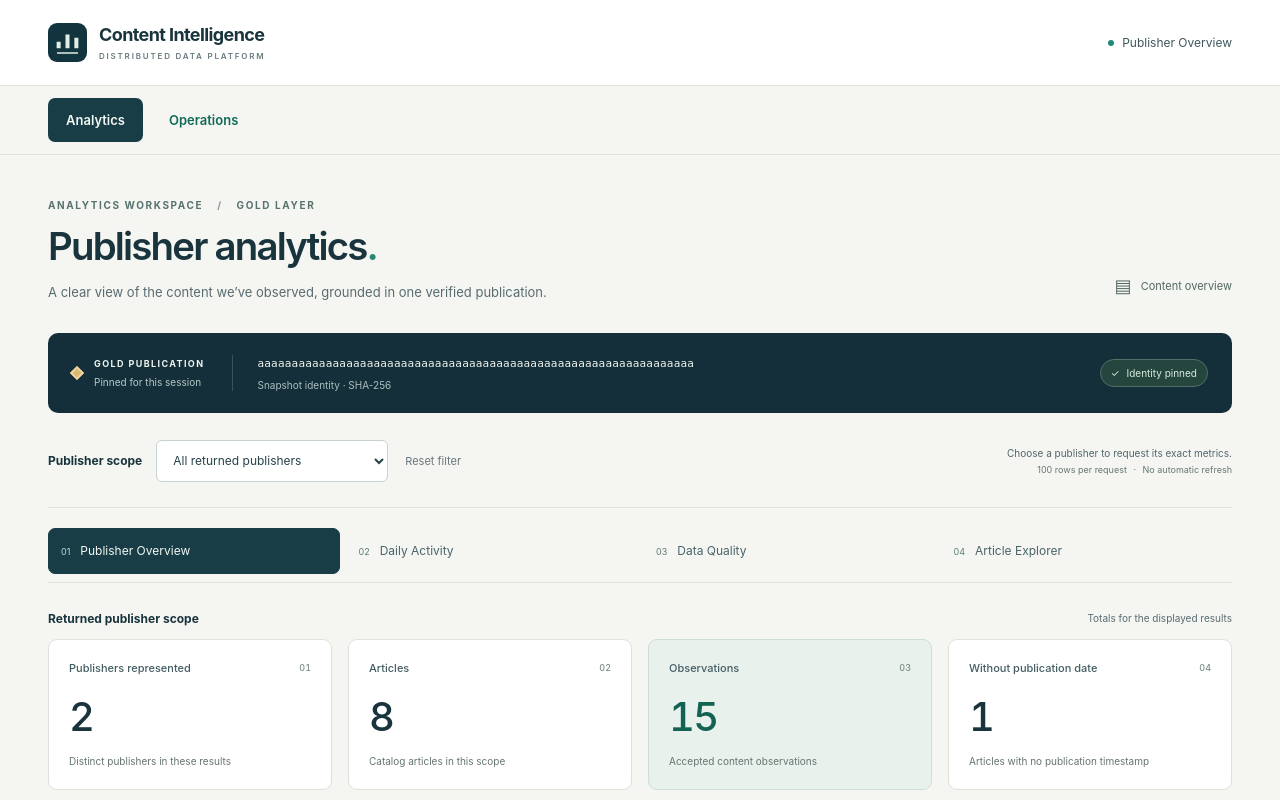
complete analytics application › rejects invalid or reversed dates in Daily Activity without requesting new data
The image size is (1280, 800).
Step 1. Click the button "02Daily Activity" → (417, 551), box [346,528,637,574]
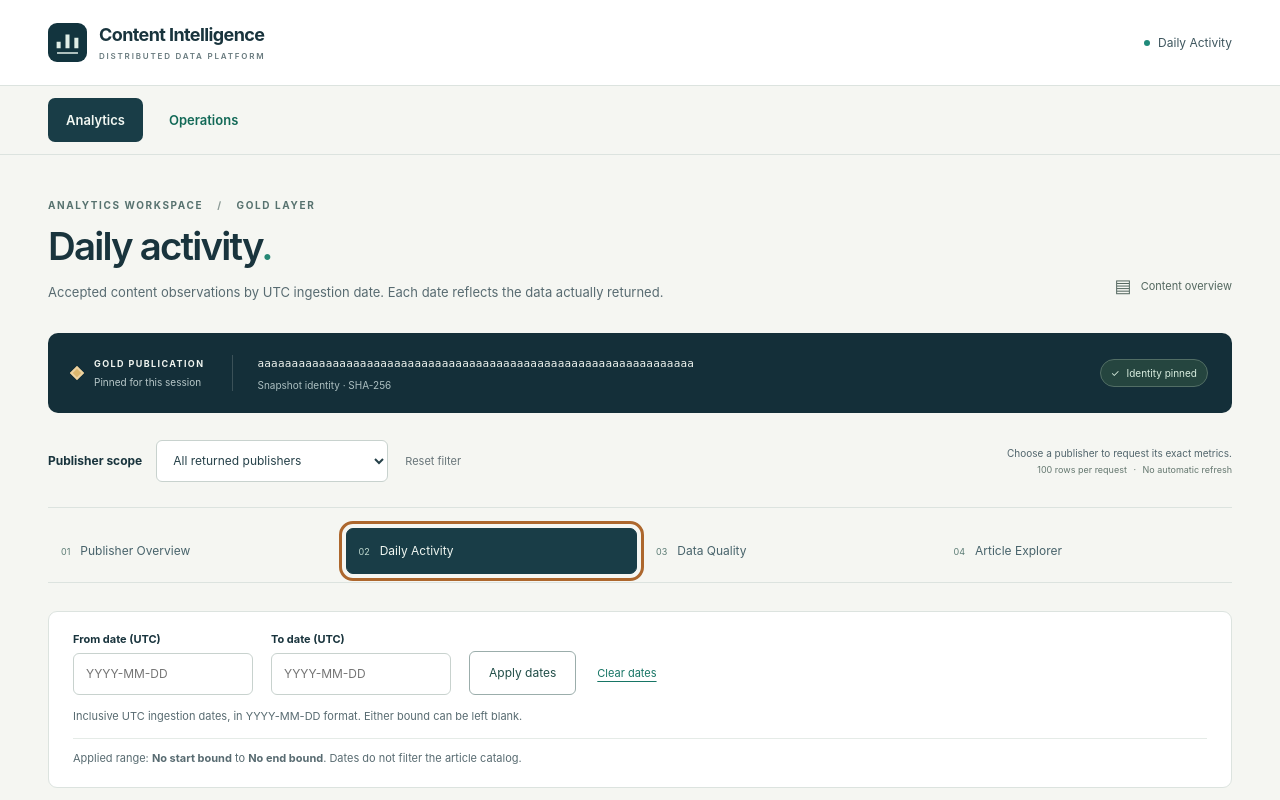
Step 2. Type "2026-02-30" into the field labelled "From date (UTC)" → (163, 674), box [73,653,253,695]
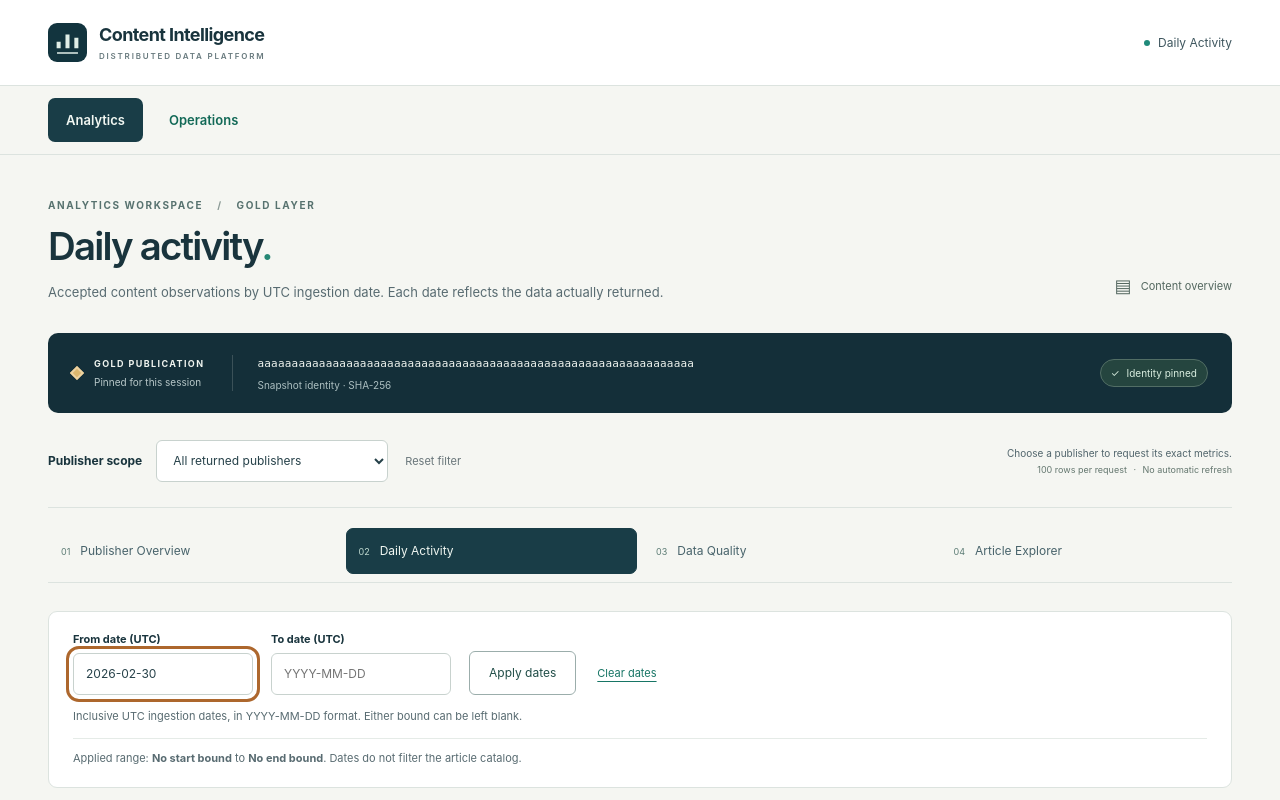
Step 3. Click the button "Apply dates" → (523, 673), box [469,651,576,695]
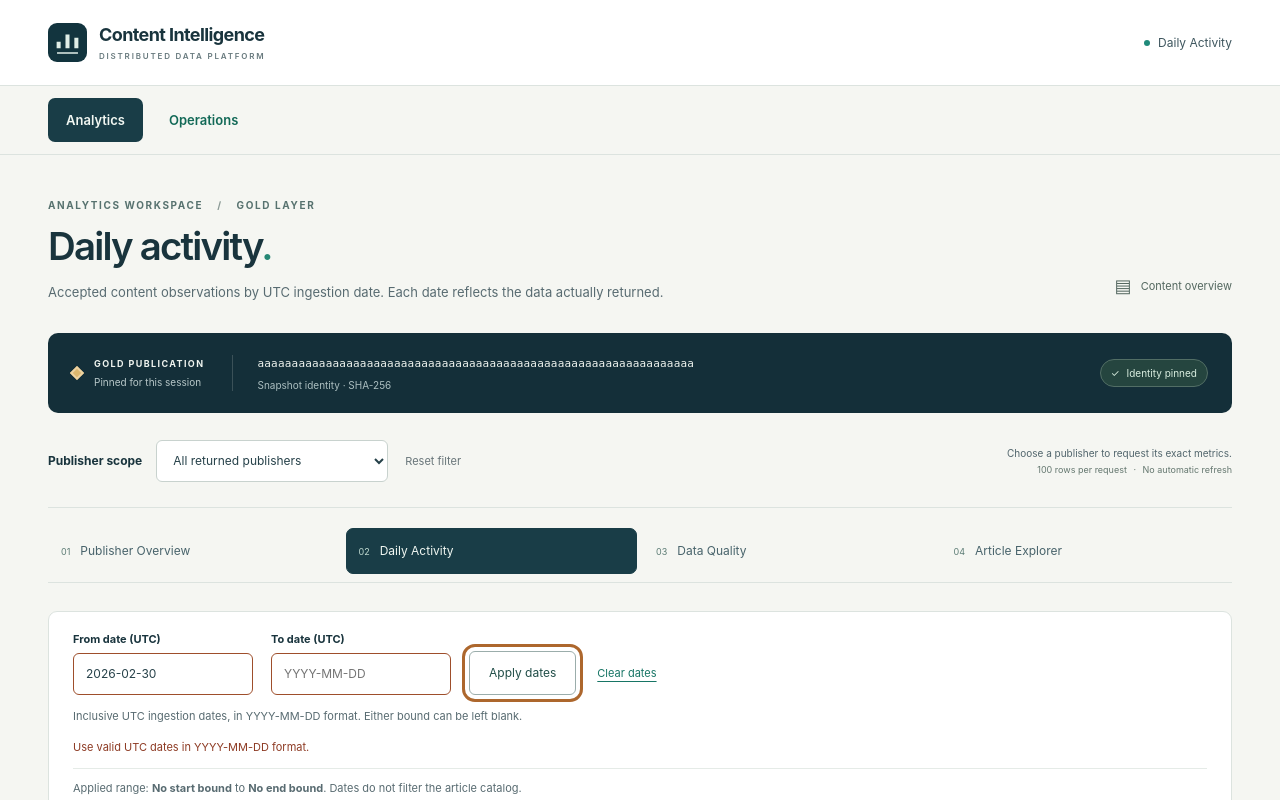
Expected: the message shows "Use valid UTC dates", [73,740,309,754]
Step 4. Replace the text in the field labelled "From date (UTC)" with "2026-10-14" → (163, 674), box [73,653,253,695]
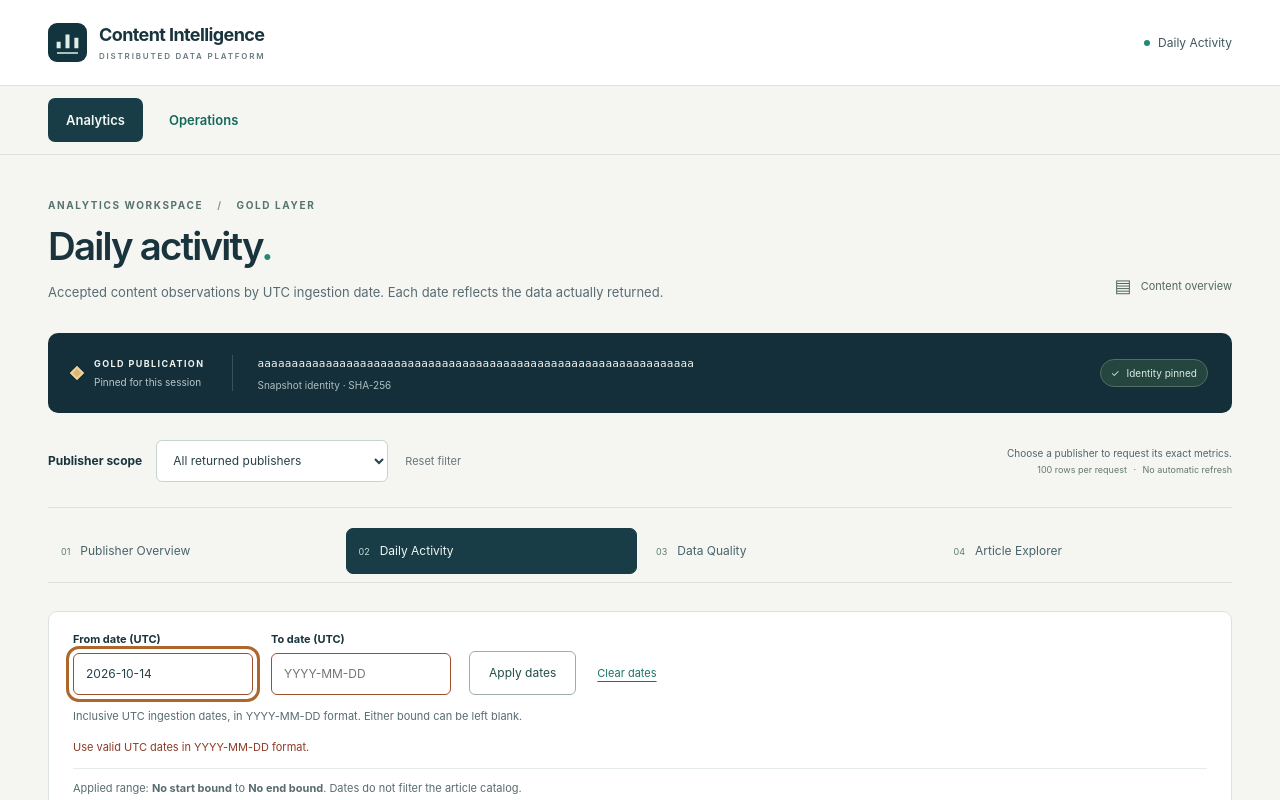
Step 5. Type "2026-10-12" into the field labelled "To date (UTC)" → (361, 674), box [271,653,451,695]
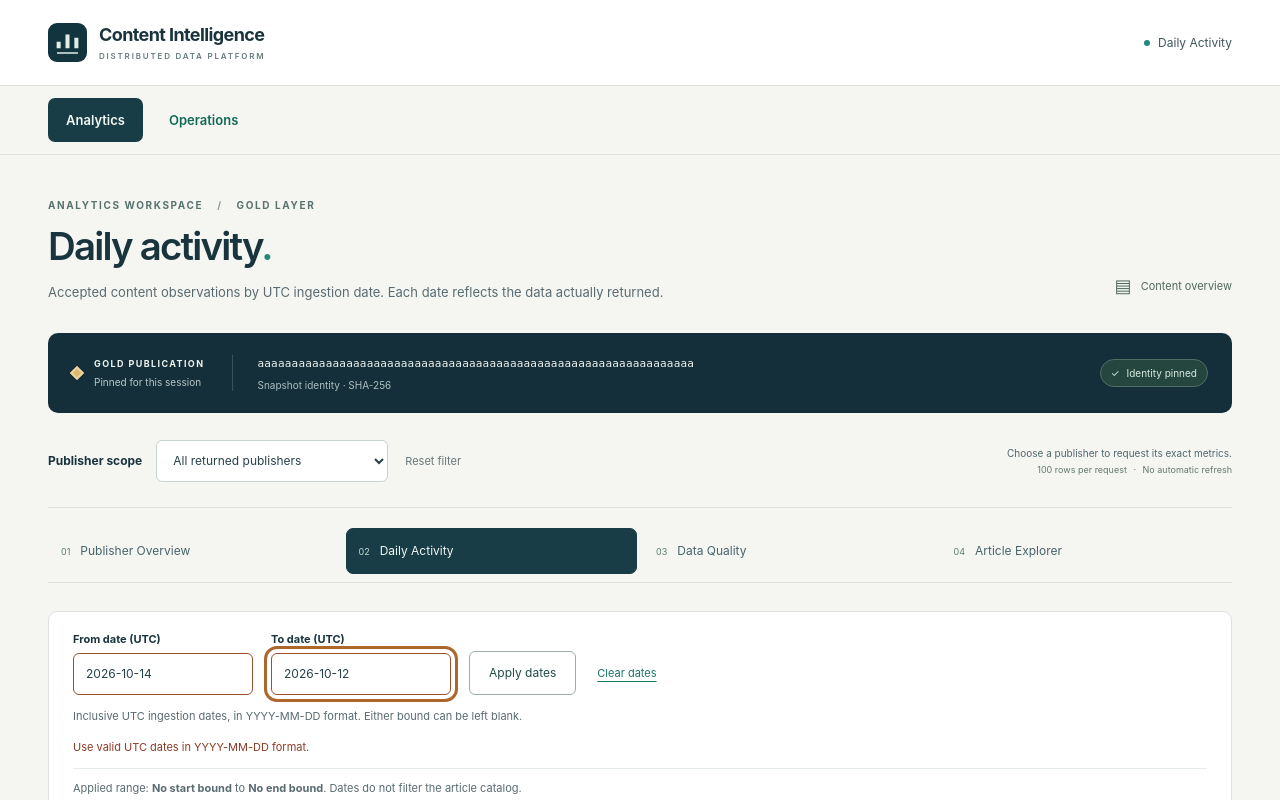
Step 6. Click the button "Apply dates" → (523, 673), box [469,651,576,695]
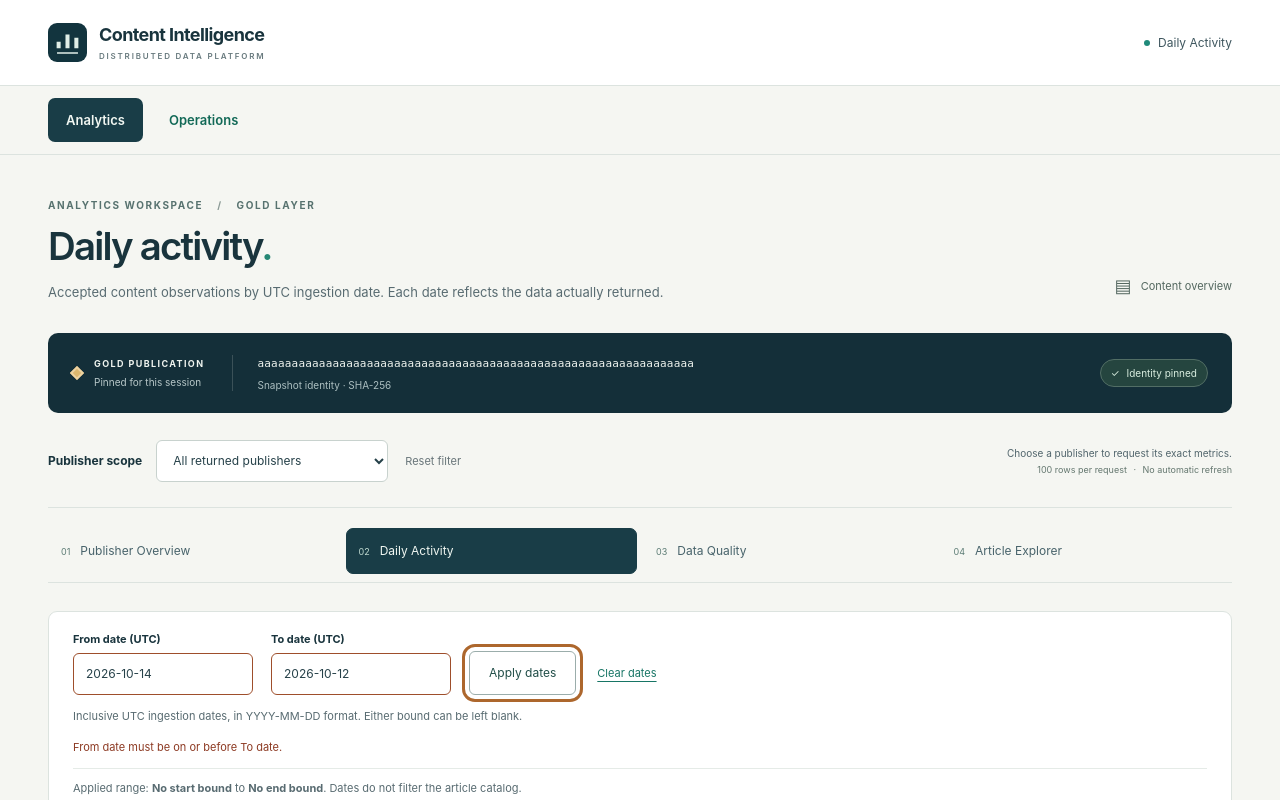
Expected: the text "No start bound" is shown, [152,781,232,795]
Expected: the message shows "on or before", [73,740,282,754]
